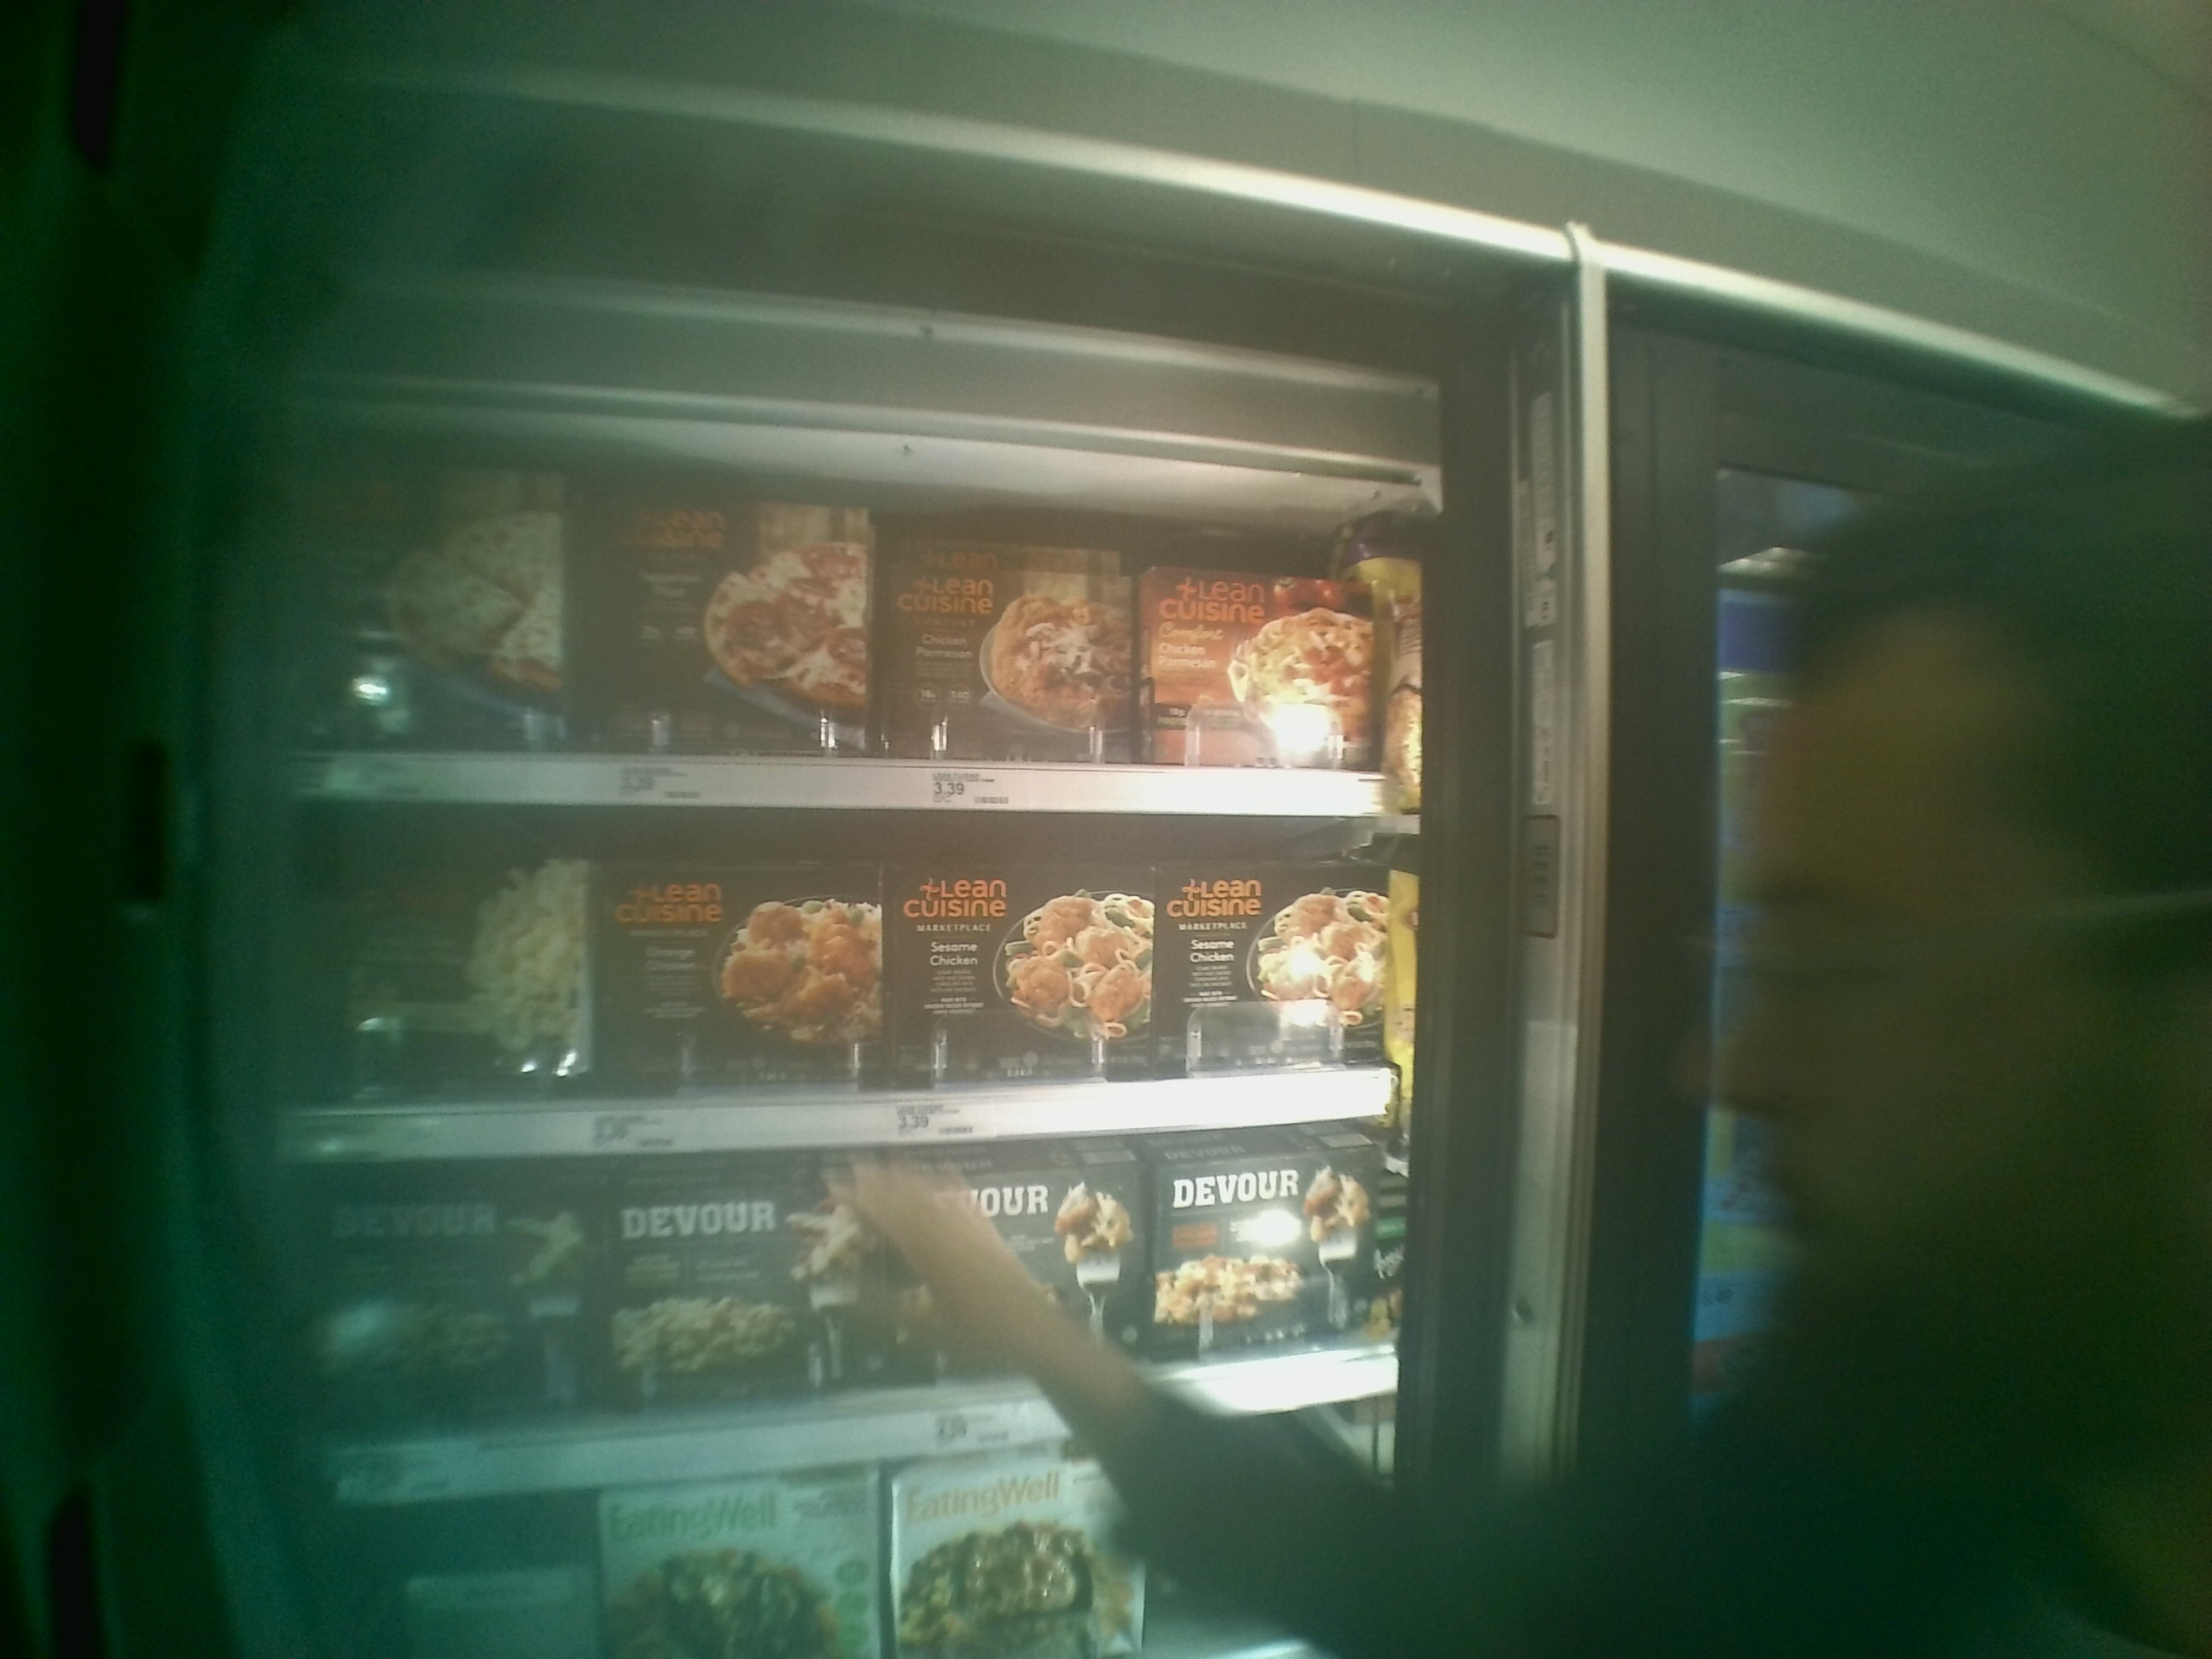shelf: (286, 385, 1413, 819), (273, 809, 1411, 1168)
